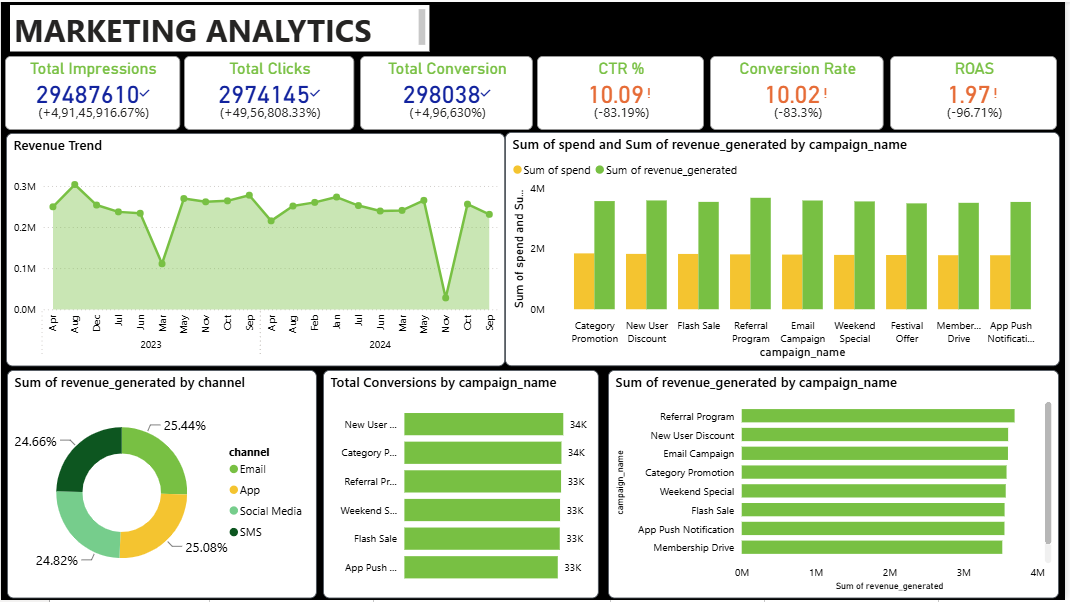

Layout of this report page (visuals, bound fields, positions):
{"tool":"powerbi","page":{"name":"MARKETING ANALYTICS","canvas":[1280,720],"ordinal":4},"visuals":[{"type":"barChart","fields":{"Category":["marketing_performance_clean.campaign_name"],"Y":["Sum(marketing_performance_clean.revenue_generated)"]},"box":[730.8,443.1,543,274.5],"z":0},{"type":"donutChart","fields":{"Category":["marketing_performance_clean.channel"],"Y":["Sum(marketing_performance_clean.revenue_generated)"]},"box":[7.2,443.1,373.2,274.5],"z":1000},{"type":"clusteredColumnChart","fields":{"Category":["marketing_performance_clean.campaign_name"],"Y":["Sum(marketing_performance_clean.spend)","Sum(marketing_performance_clean.revenue_generated)"]},"box":[606.8,156.5,668.2,281.7],"z":2000},{"type":"kpi","title":"Total Impressions","fields":{"Indicator":["marketing_performance_clean.Total Impressions"],"TrendLine":["Date Table.Month Name"],"Goal":["CountNonNull(Dim Calendar.Year)"]},"box":[4.8,65,210.7,89.1],"z":3000},{"type":"kpi","title":"Total Clicks","fields":{"Indicator":["marketing_performance_clean.Total Clicks"],"TrendLine":["Date Table.Month Name"],"Goal":["CountNonNull(Dim Calendar.Year)"]},"box":[220.3,65,204.7,89.1],"z":4000},{"type":"kpi","title":"Total Conversion","fields":{"Indicator":["marketing_performance_clean.Total Conversions"],"TrendLine":["Date Table.Month Name"],"Goal":["CountNonNull(Dim Calendar.Year)"]},"box":[432.2,65,208.3,89.1],"z":5000},{"type":"kpi","title":"CTR %","fields":{"Indicator":["marketing_performance_clean.CTR %"],"TrendLine":["Date Table.Month Name"],"Goal":["CountNonNull(Dim Calendar.Year)"]},"box":[645.4,65,201.1,89.1],"z":6000},{"type":"kpi","title":"Conversion Rate","fields":{"Indicator":["marketing_performance_clean.Conversion Rate %"],"TrendLine":["Date Table.Month Name"],"Goal":["CountNonNull(Dim Calendar.Year)"]},"box":[853.6,65,209.5,89.1],"z":7000},{"type":"kpi","title":"ROAS","fields":{"Indicator":["marketing_performance_clean.ROAS M"],"TrendLine":["Date Table.Month Name"],"Goal":["CountNonNull(Dim Calendar.Year)"]},"box":[1070.4,65,201.1,89.1],"z":8000},{"type":"textbox","box":[10.5,3.9,504.5,56.5],"z":9000},{"type":"lineChart","title":"Revenue Trend","fields":{"Category":["Dim Calendar.Year","Date Table.Month Name"],"Y":["order_items_clean.Revenue Trend"]},"box":[5.7,157.1,601.4,281.4],"z":10000},{"type":"barChart","fields":{"Category":["marketing_performance_clean.campaign_name"],"Y":["marketing_performance_clean.Total Conversions"]},"box":[387.7,443.1,332.3,274.5],"z":11000}]}

Visuals, with their boxes in screenshot pixels (x1, y1, x2, y2), scaled from the page's 1280x720 canvas onto the 1070x602 screenshot:
barChart - marketing_performance_clean.campaign_name x Sum(marketing_performance_clean.revenue_generated): 611/370/1065/600
donutChart - marketing_performance_clean.channel x Sum(marketing_performance_clean.revenue_generated): 6/370/318/600
clusteredColumnChart - marketing_performance_clean.campaign_name x Sum(marketing_performance_clean.spend): 507/131/1066/366
"Total Impressions" kpi: 4/54/180/129
"Total Clicks" kpi: 184/54/355/129
"Total Conversion" kpi: 361/54/535/129
"CTR %" kpi: 540/54/708/129
"Conversion Rate" kpi: 714/54/889/129
"ROAS" kpi: 895/54/1063/129
textbox: 9/3/431/51
"Revenue Trend" lineChart: 5/131/507/367
barChart - marketing_performance_clean.campaign_name x marketing_performance_clean.Total Conversions: 324/370/602/600
